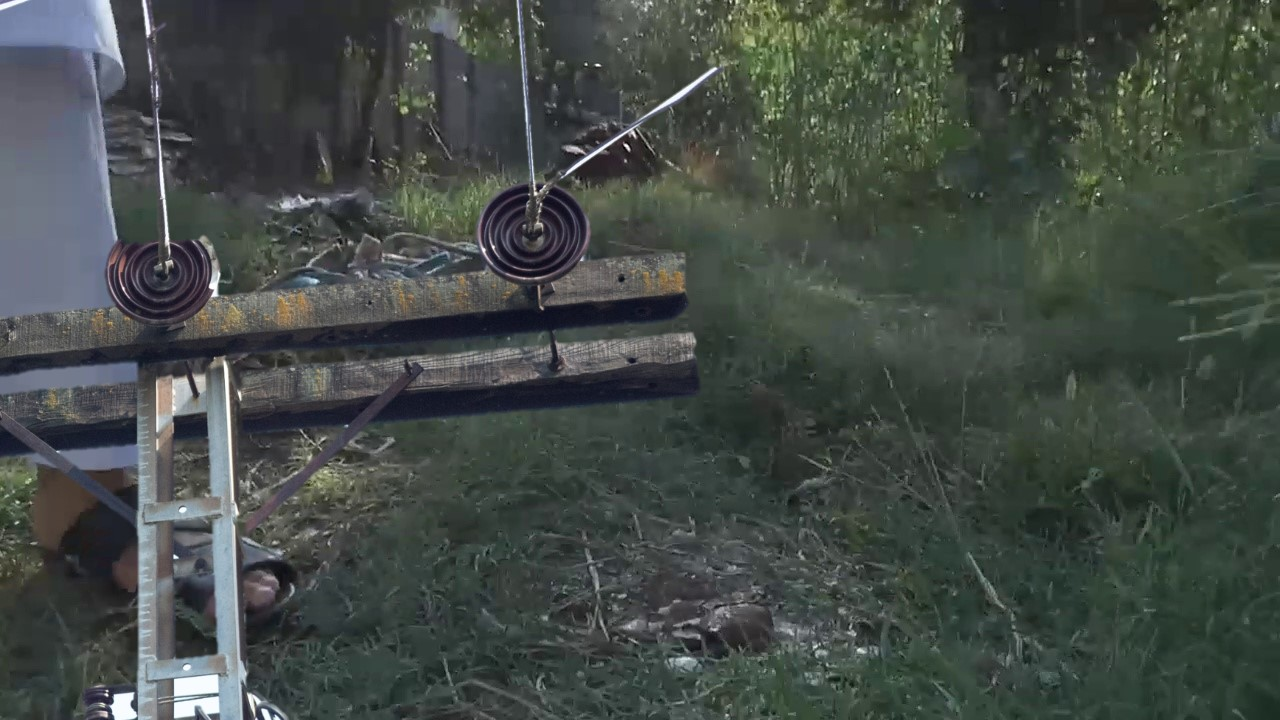defect_disc: (103, 223, 232, 329)
insulator_disc: (472, 181, 593, 288)
